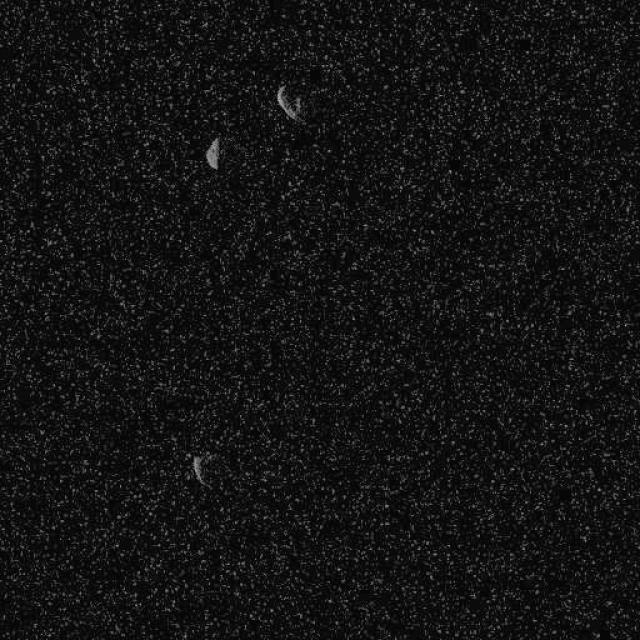D2: (275, 80, 309, 124), (191, 452, 210, 488), (204, 135, 220, 170)
